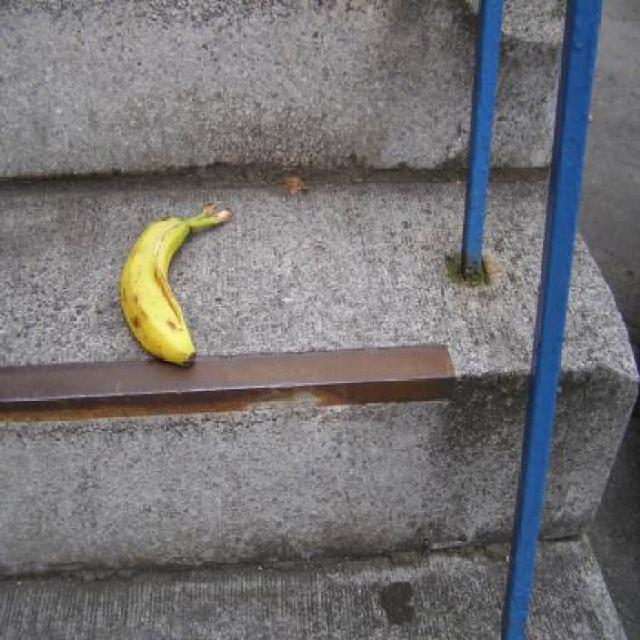Banana: (116, 196, 242, 367)
